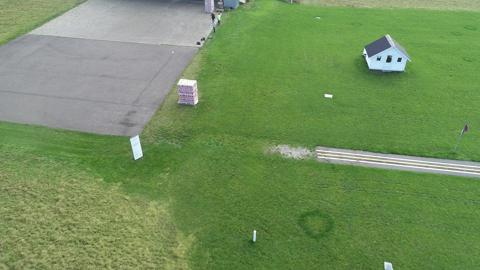RockwoolPallet: (177, 78, 200, 106)
